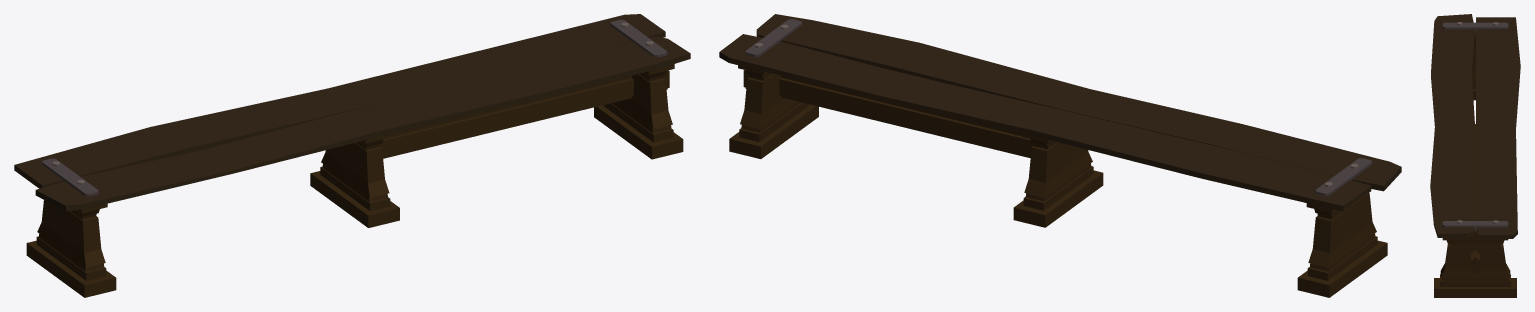
File: LongBenchGuards 1.fbx
3 views of the same model, side by side, from view 1: azimuth 30°, elevation 25°; view 2: azimuth 150°, elevation 25°; view 3: azimuth 270°, elevation 25° (orthographic). The views are drawn at different scales.
Parts seen in each view (by area): view 1: Cube; view 2: Cube; view 3: Cube.
Boxes of the visible parts, <box> form: Cube: <box>14,14,690,297</box>; Cube: <box>719,14,1401,297</box>; Cube: <box>1430,14,1520,297</box>.
Bounding box in the file's own units: 353 × 52.91 × 60.75.
